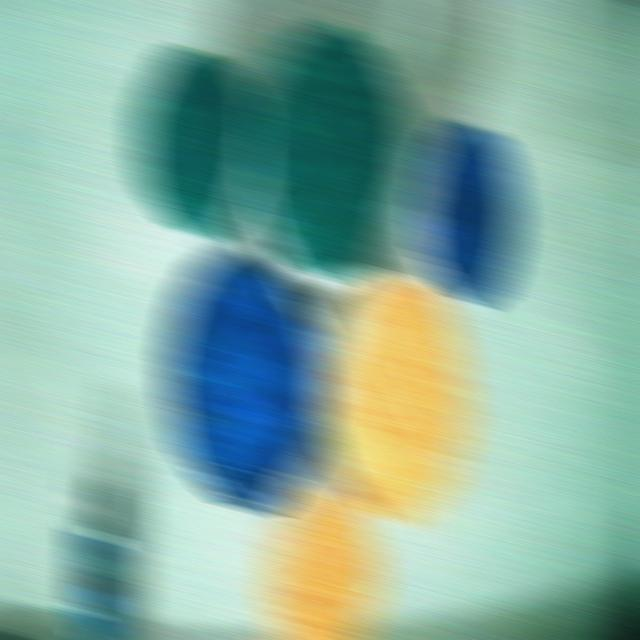blue: (162, 245, 327, 512), (416, 118, 519, 305)
green: (249, 23, 412, 288), (136, 46, 259, 241)
yellow: (321, 273, 472, 522), (262, 489, 383, 639)
